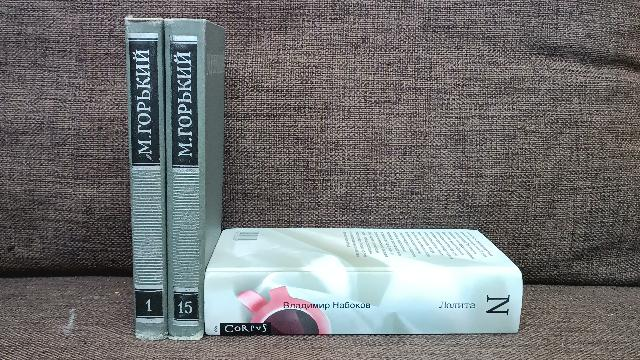book-s-spine: (205, 272, 523, 335), (125, 19, 168, 338), (165, 20, 204, 337)
